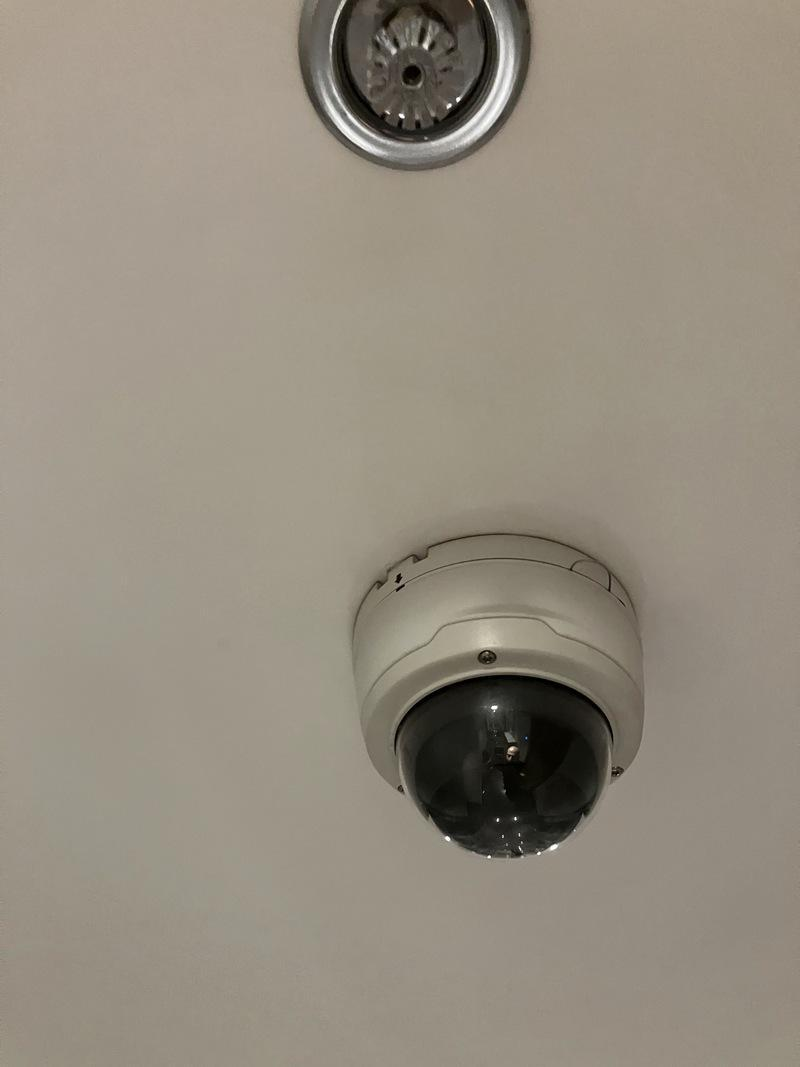dome: (326, 522, 672, 873)
